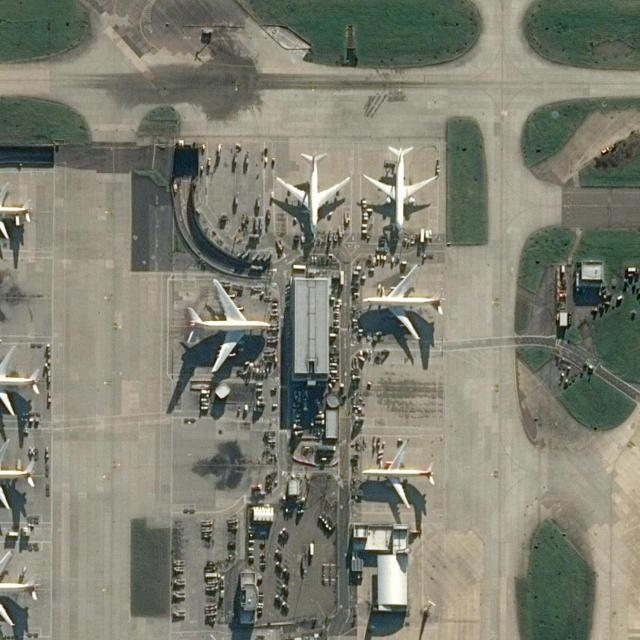Aircraft: (185, 281, 272, 376), (184, 280, 271, 374), (359, 263, 444, 341), (360, 264, 444, 341), (362, 146, 437, 232), (364, 146, 437, 233), (274, 152, 350, 232), (276, 154, 351, 231), (360, 441, 436, 510), (360, 442, 434, 510), (0, 344, 41, 419), (0, 552, 39, 628), (0, 345, 41, 417), (1, 549, 37, 629), (0, 438, 37, 511), (0, 439, 36, 512), (0, 184, 31, 242), (1, 186, 31, 244)
